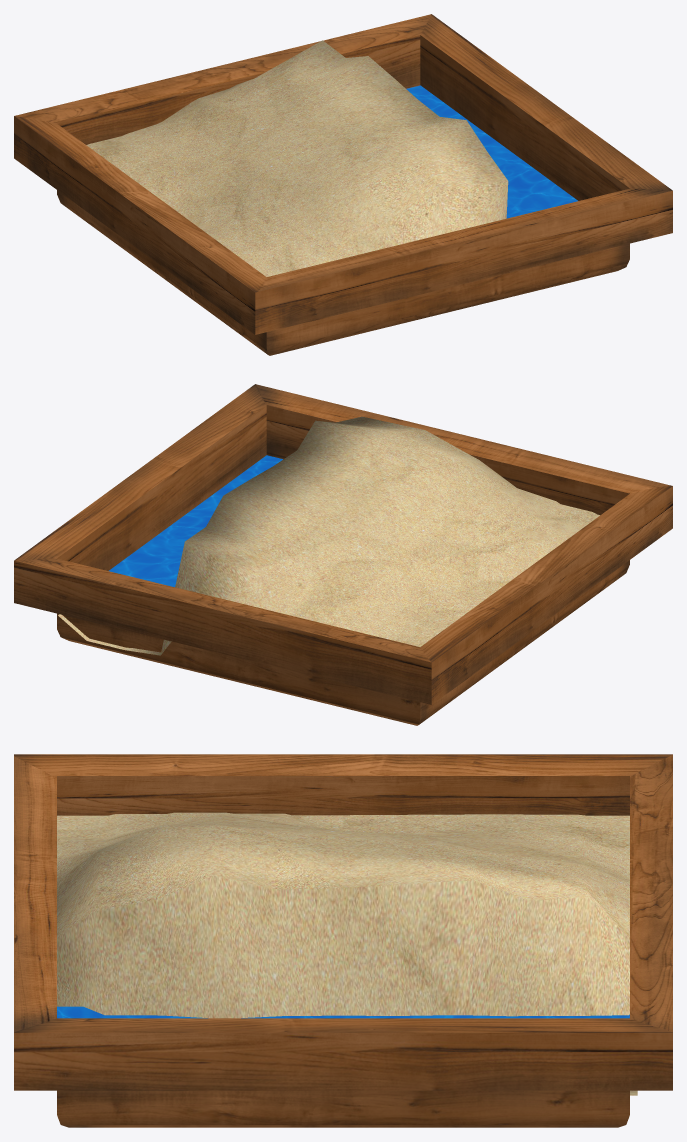
The model's file is Sand01.fbx.
The picture shows the model from 3 angles, top to bottom: view 1: azimuth 30°, elevation 25°; view 2: azimuth 150°, elevation 25°; view 3: azimuth 270°, elevation 25°; orthographic projection. The views are drawn at different scales.
Parts seen in each view (by area): view 1: polySurface9; view 2: polySurface9; view 3: polySurface9.
Boxes of the visible parts, box(x1,y1,x2,y2) form: polySurface9: box(14, 14, 672, 355); polySurface9: box(14, 384, 672, 725); polySurface9: box(14, 754, 672, 1127).
Bounding box in the file's own units: 23.91 × 7.5 × 23.91.
